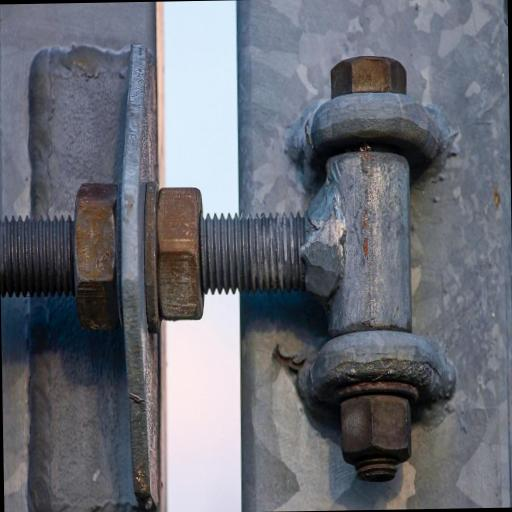corrosion: (341, 380, 418, 480), (158, 188, 201, 321), (75, 183, 117, 283), (334, 57, 407, 95)
